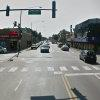Crosswalk: (7, 60, 100, 86)
